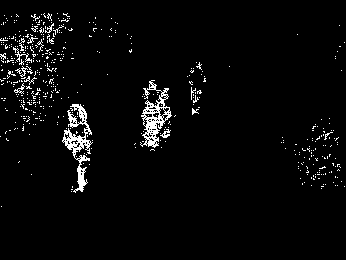person: (59, 104, 97, 194), (185, 58, 208, 118)
